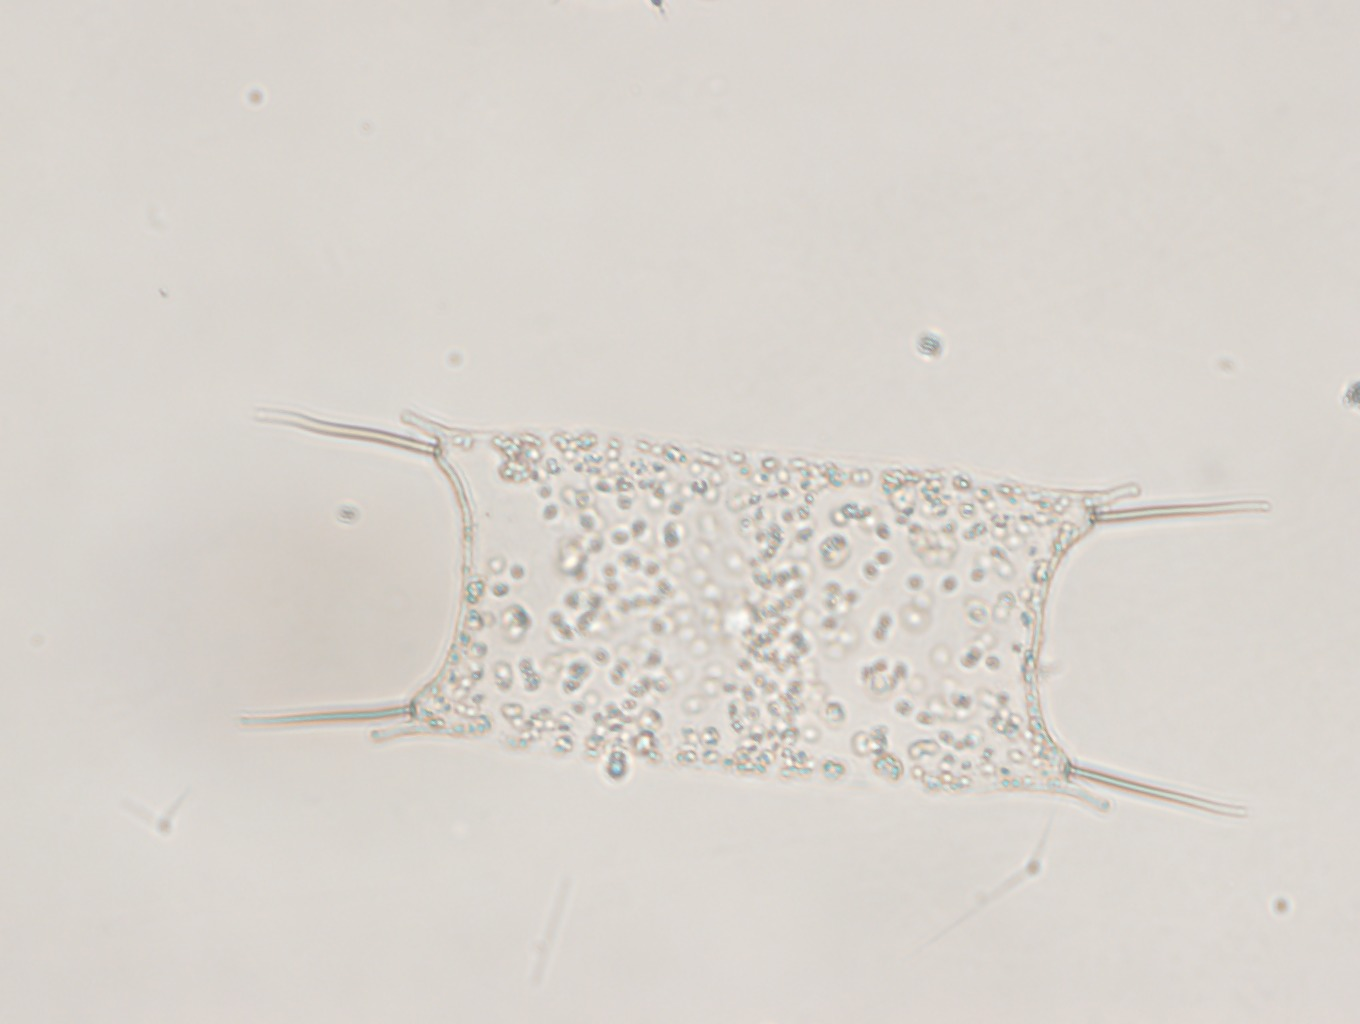biddulphia: (238, 400, 1282, 822)
